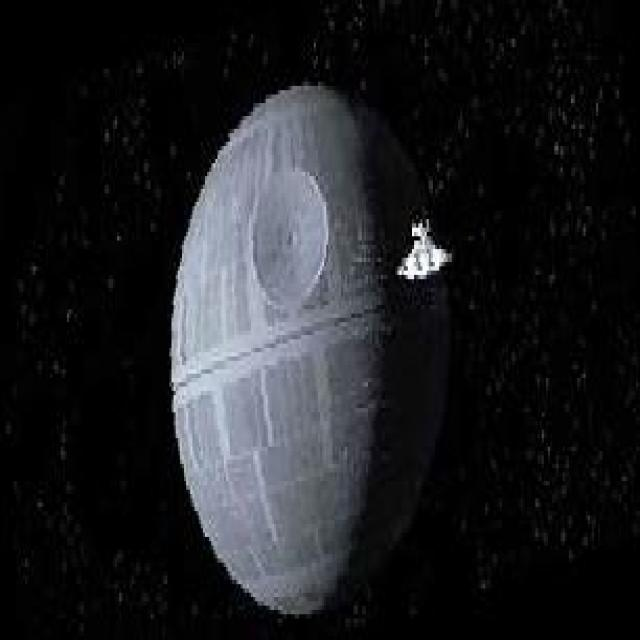Death Star: (158, 77, 458, 620)
